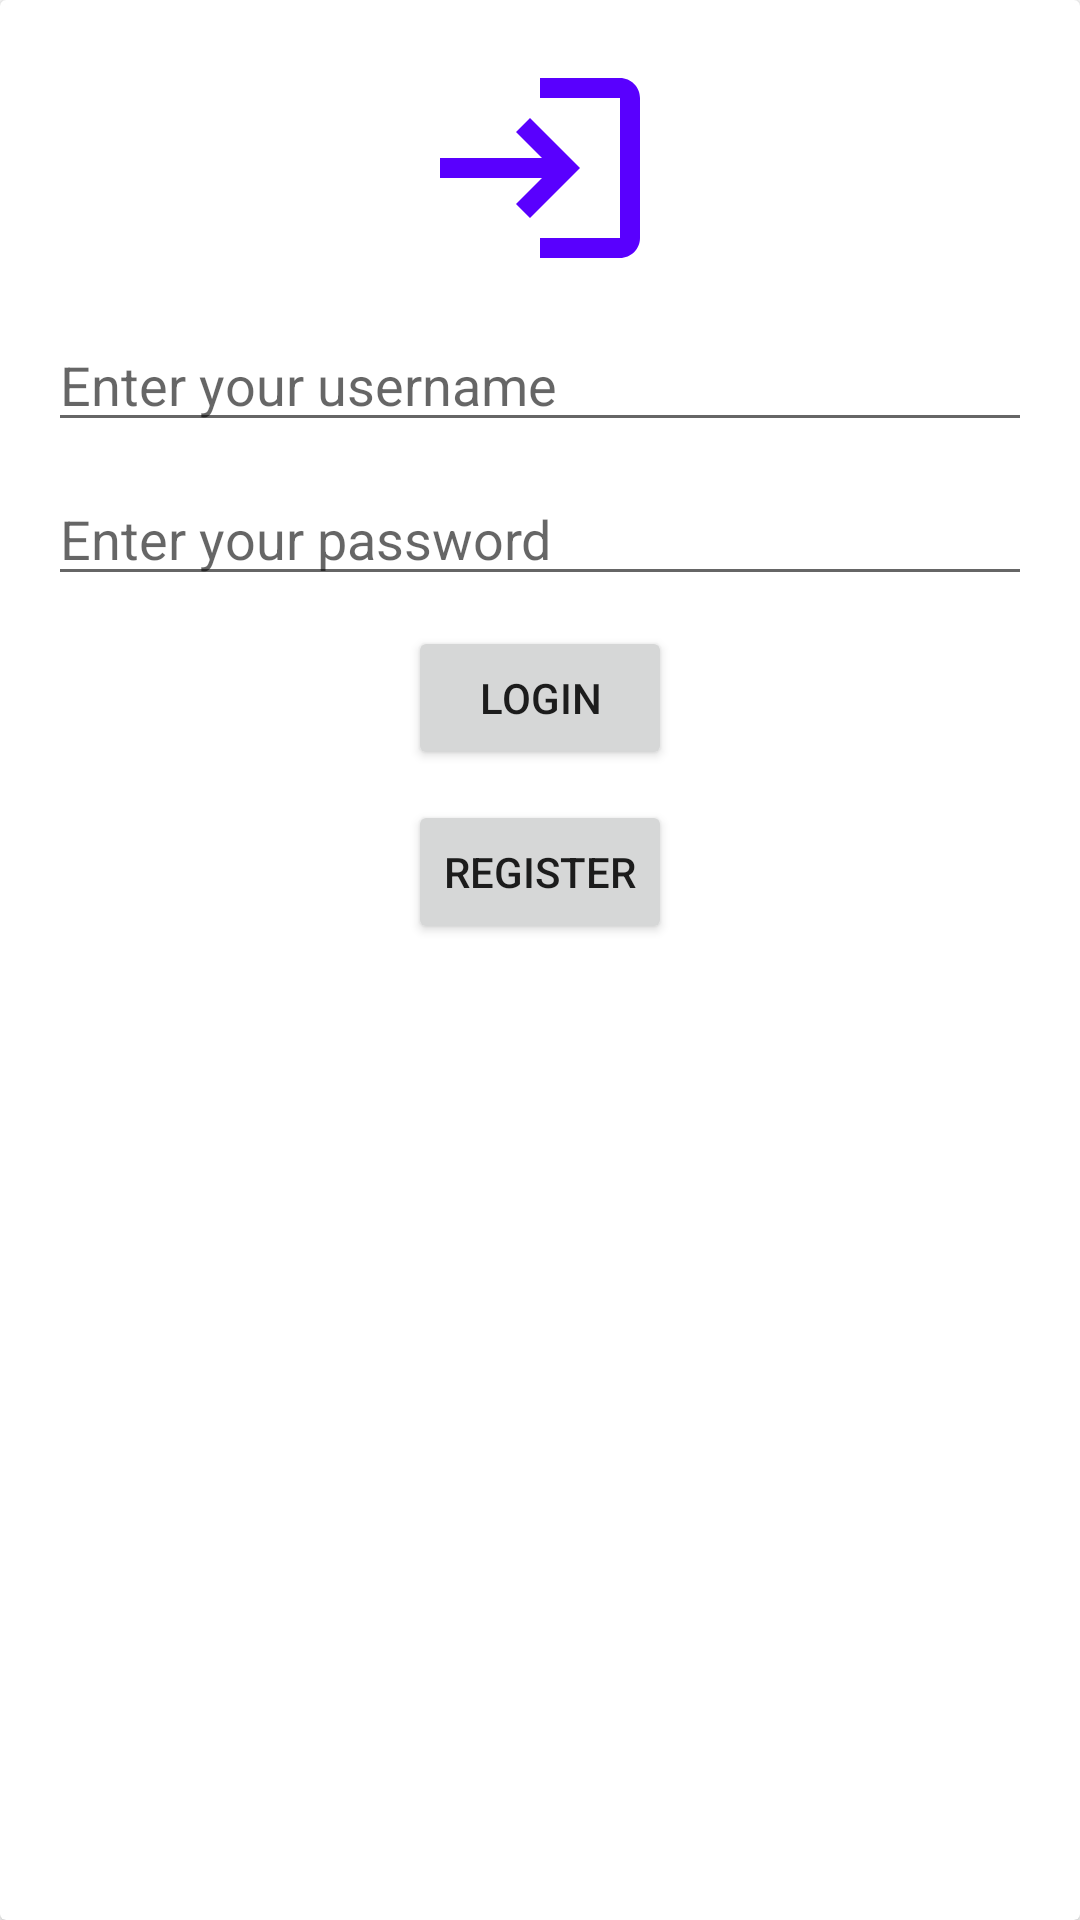

Screen size 1080 x 1920. Icon name, then its center in pixels as (x=x, y=y):
login: (x=540, y=168)
